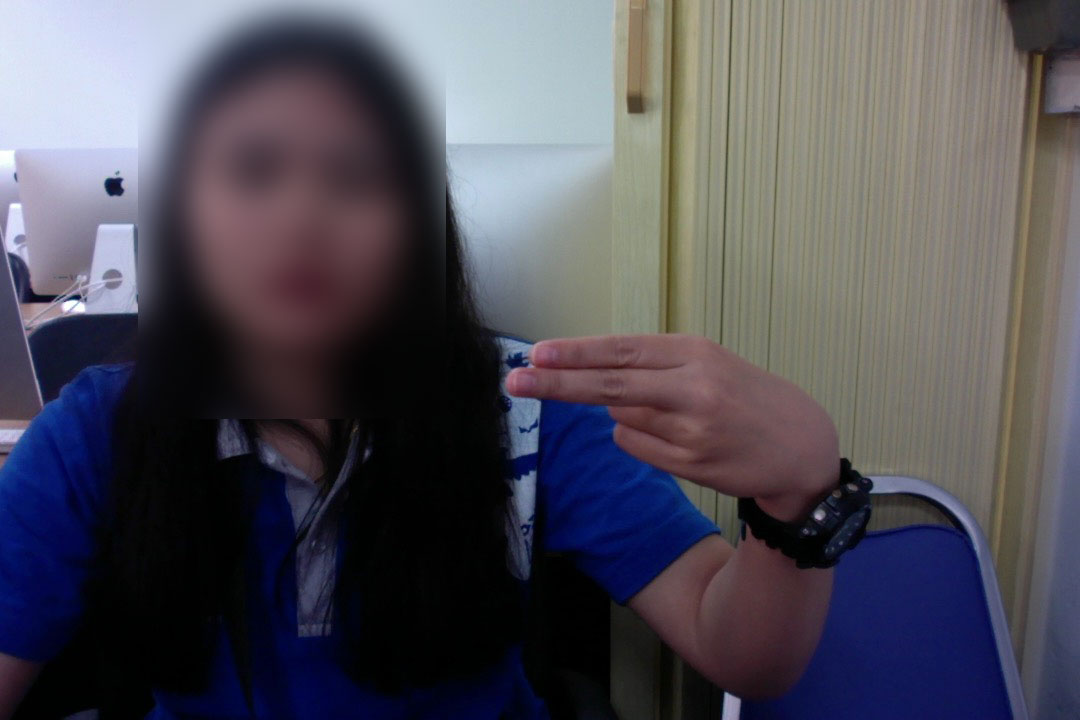hor: (499, 323, 845, 503)
